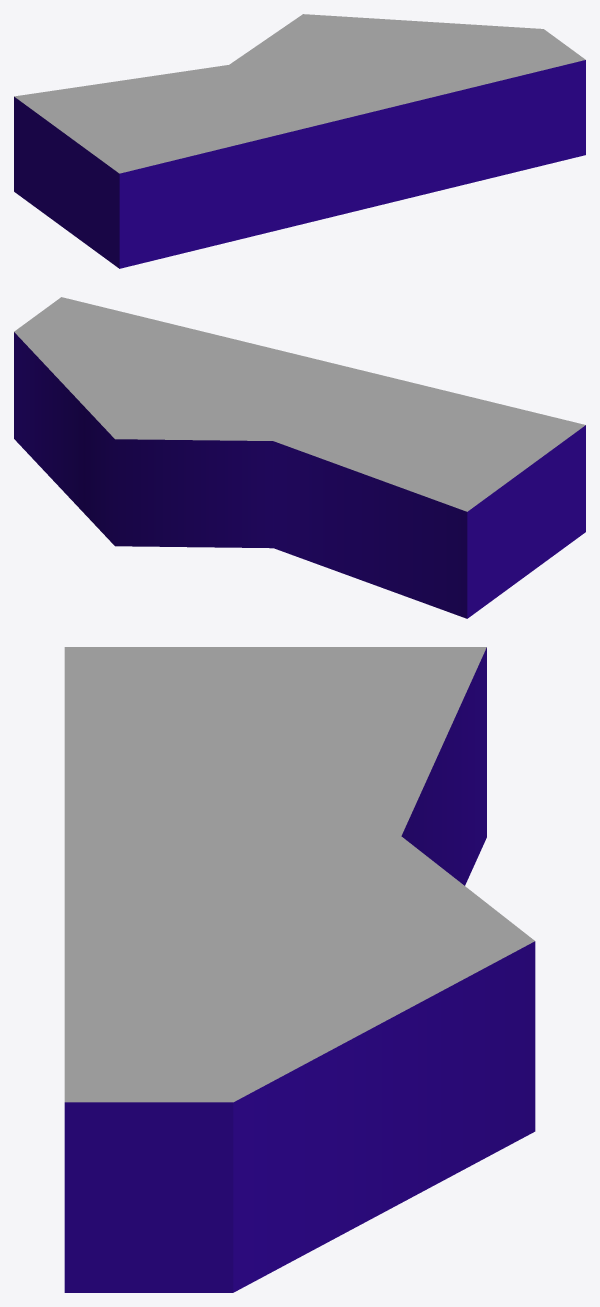
The model's file is Shard_S_8_N_3.fbx.
The picture shows the model from 3 angles, top to bottom: view 1: azimuth 30°, elevation 25°; view 2: azimuth 150°, elevation 25°; view 3: azimuth 270°, elevation 25°; orthographic projection. The views are drawn at different scales.
Parts seen in each view (by area): view 1: pCube1; view 2: pCube1; view 3: pCube1.
Boxes of the visible parts, left/top/right/bottom form: pCube1: left=14, top=14, right=585, bottom=268; pCube1: left=14, top=297, right=585, bottom=618; pCube1: left=64, top=647, right=535, bottom=1292.
Size of the model in its own units: 3.08 by 0.6001 by 1.34.
